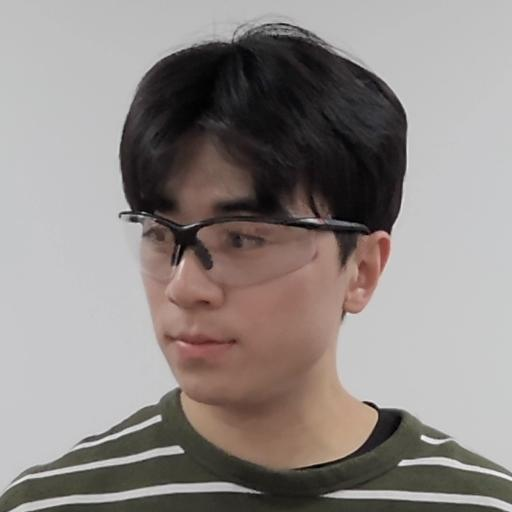glasses: (106, 20, 414, 417)
